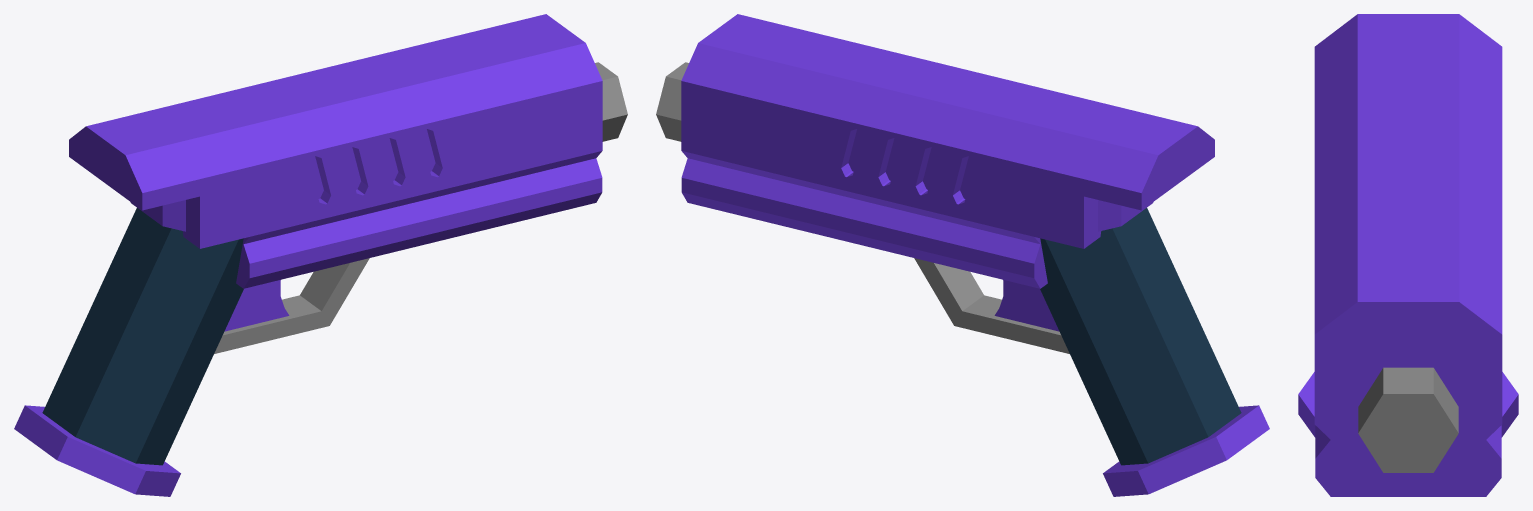
File: GUN.fbx
3 views of the same model, side by side, from view 1: azimuth 30°, elevation 25°; view 2: azimuth 150°, elevation 25°; view 3: azimuth 270°, elevation 25° (orthographic). The views are drawn at different scales.
Visible parts, largest first — view 1: Plane; view 2: Plane; view 3: Plane.
Boxes of the visible parts, x1=… form: Plane: x1=14, y1=14, x2=627, y2=496; Plane: x1=656, y1=14, x2=1269, y2=496; Plane: x1=1298, y1=14, x2=1518, y2=496.
Size of the model in its own units: 104 by 60.8 by 27.
